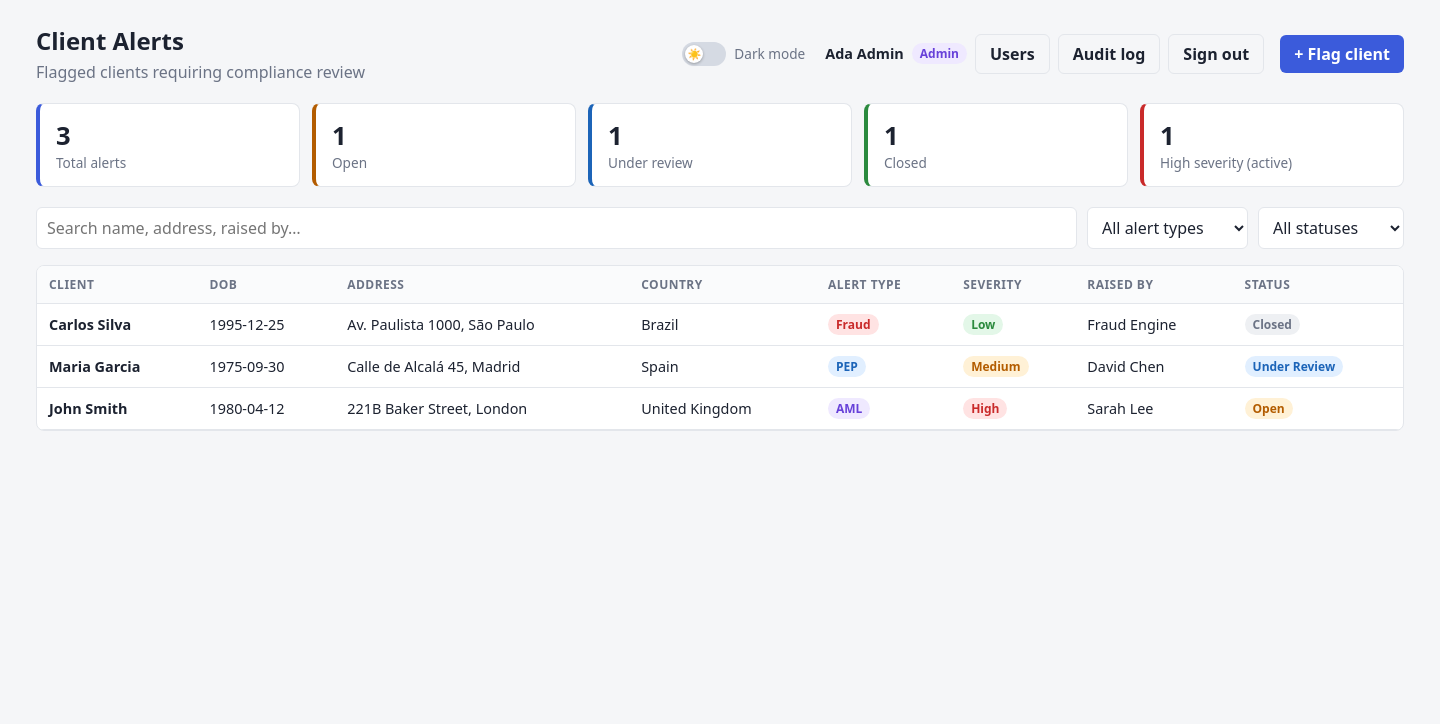
Test: detail panel › removes an edited row that no longer matches the filter but keeps the panel open
Expected: the text "John Smith" is shown, [37, 388, 197, 430]
Select "Open" in the dropdown named "Filter by status" at (1331, 228), box [1258, 207, 1404, 249]
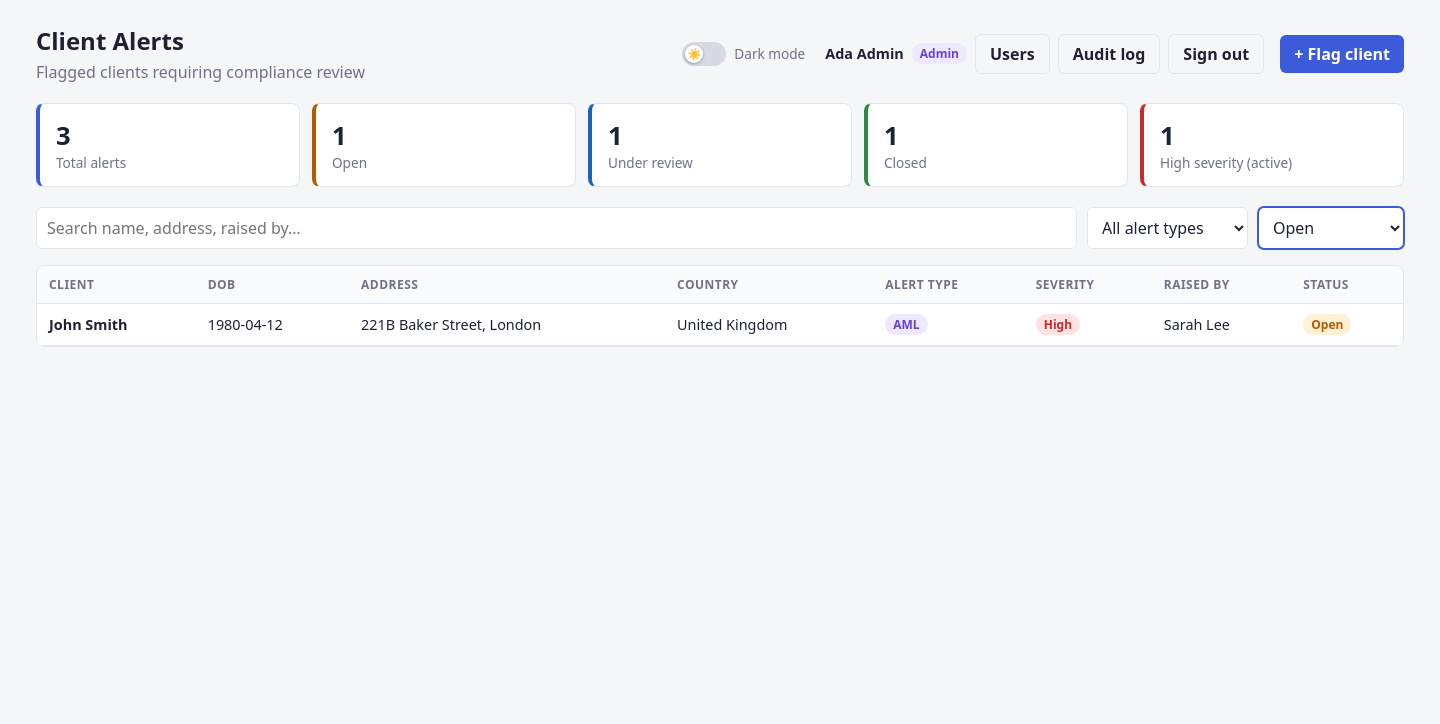
Expected: the cell "Maria Garcia" is gone
Click the text "John Smith" at (116, 324), box [37, 304, 196, 346]
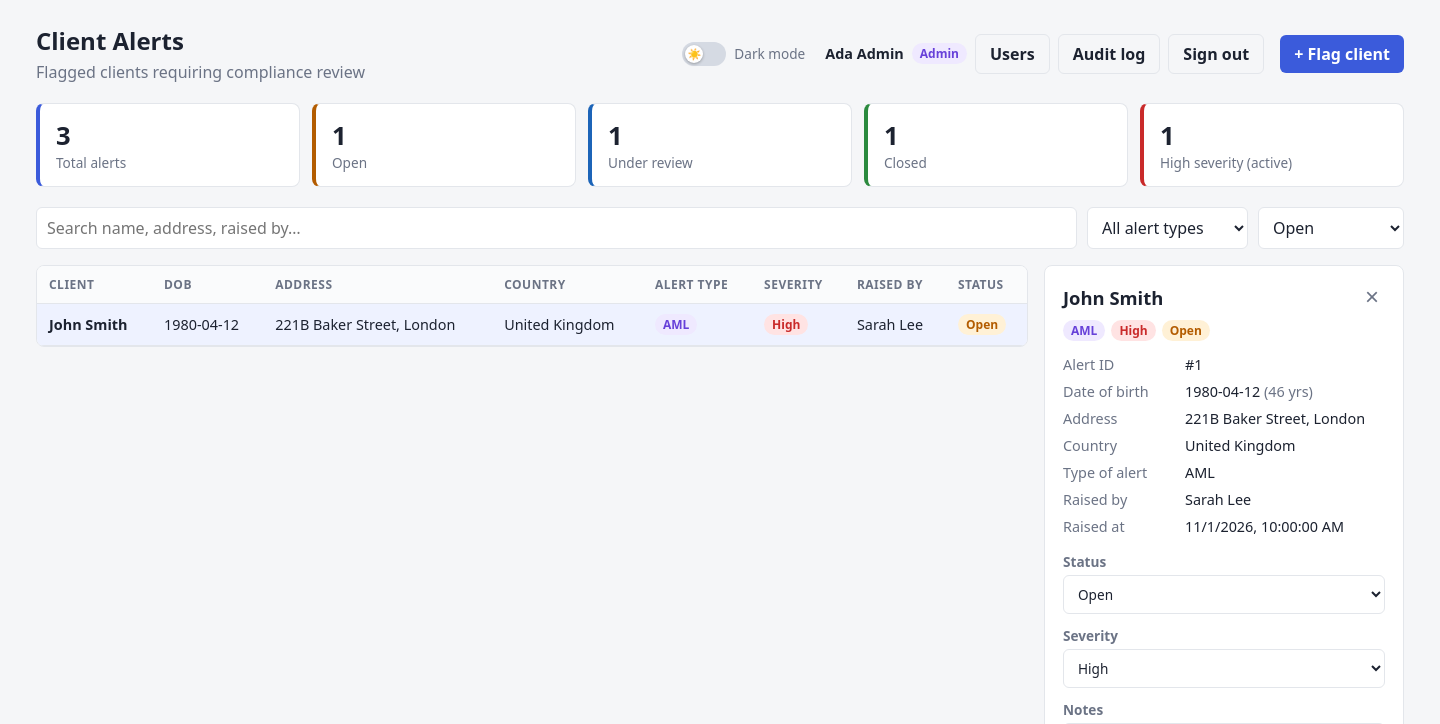
Select "Closed" in the dropdown labelled "Status" at (1224, 594), box [1063, 575, 1385, 614]
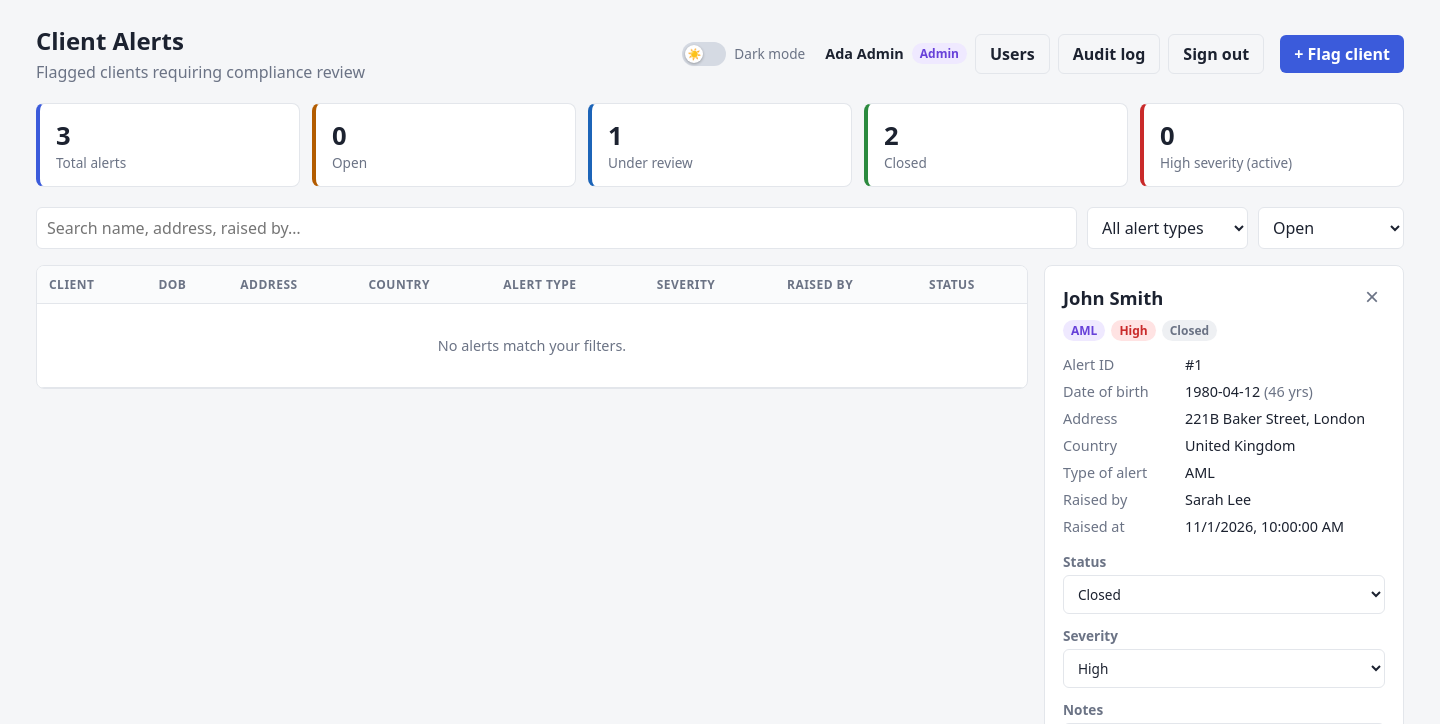
Expected: the text "No alerts match your filters." is shown, [37, 304, 1027, 388]
